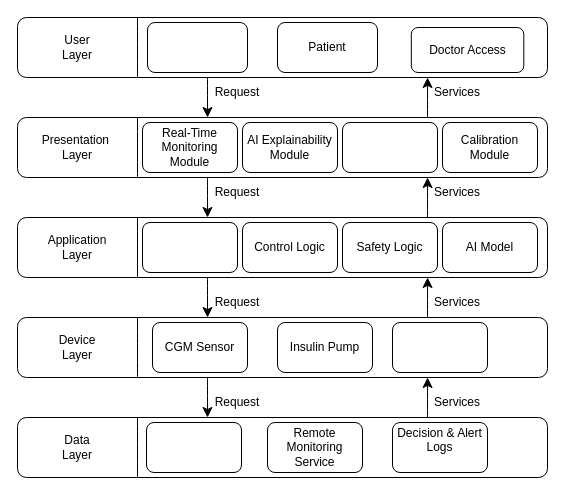
The diagram is 565 pixels wide and 496 high, and some of its shapes have lost their labels. The centre of each missing label's shape, as x and y in pixels:
"Admin" goes at pixel 197 47.
"AI Controller" goes at pixel 440 347.
"Alert System" goes at pixel 390 147.
"Communication Interface" goes at pixel 190 247.
"Physiological & Prediction Data Store" goes at pixel 194 447.
